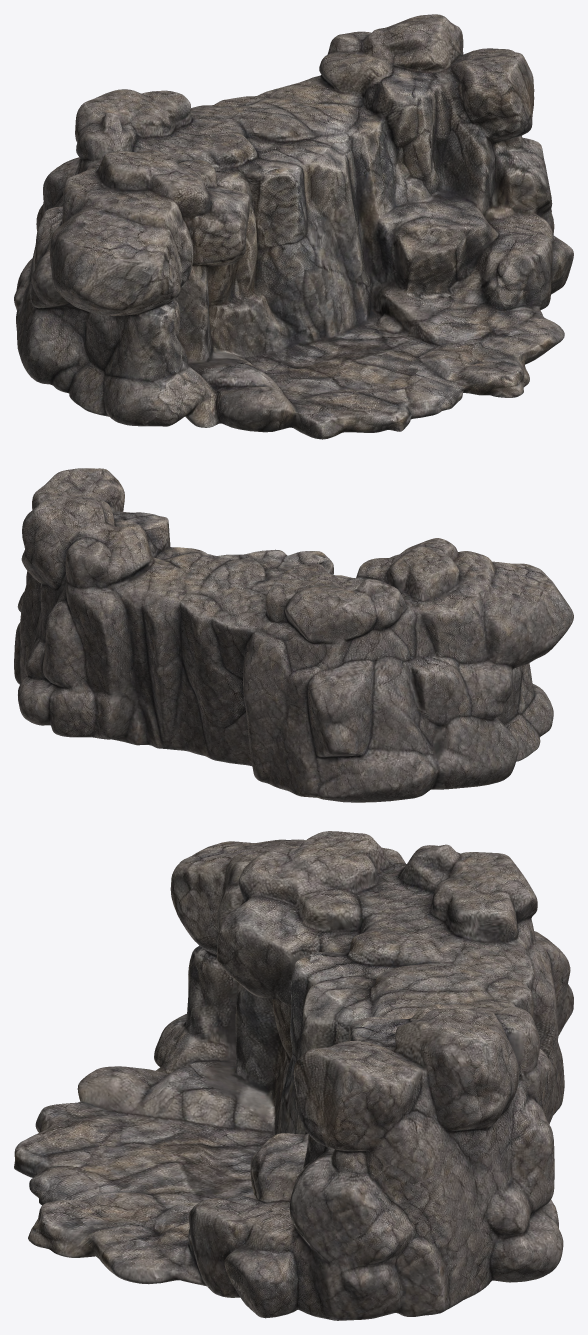
The model's file is stonewatch_cliffs.glb.
The picture shows the model from 3 angles, top to bottom: view 1: azimuth 30°, elevation 25°; view 2: azimuth 150°, elevation 25°; view 3: azimuth 270°, elevation 25°; orthographic projection. The views are drawn at different scales.
Size of the model in its own units: 1.9 by 0.7695 by 1.44.
1 material, 1 textured.
